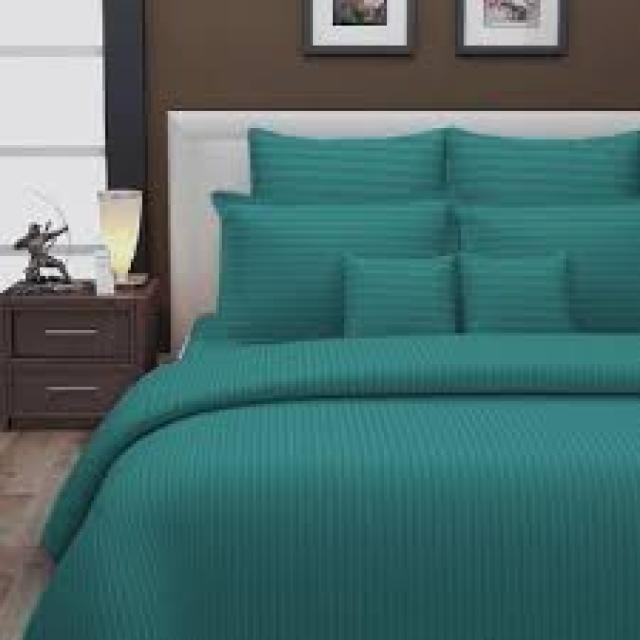bed: (14, 105, 637, 637)
